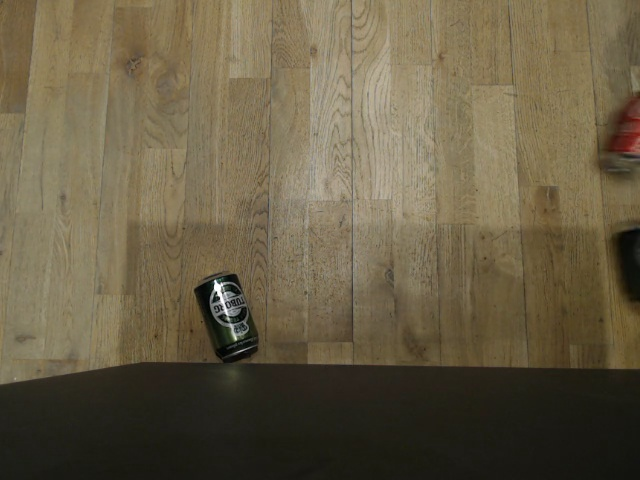beer: (193, 270, 259, 360), (611, 223, 640, 300)
cola: (608, 98, 639, 168)
